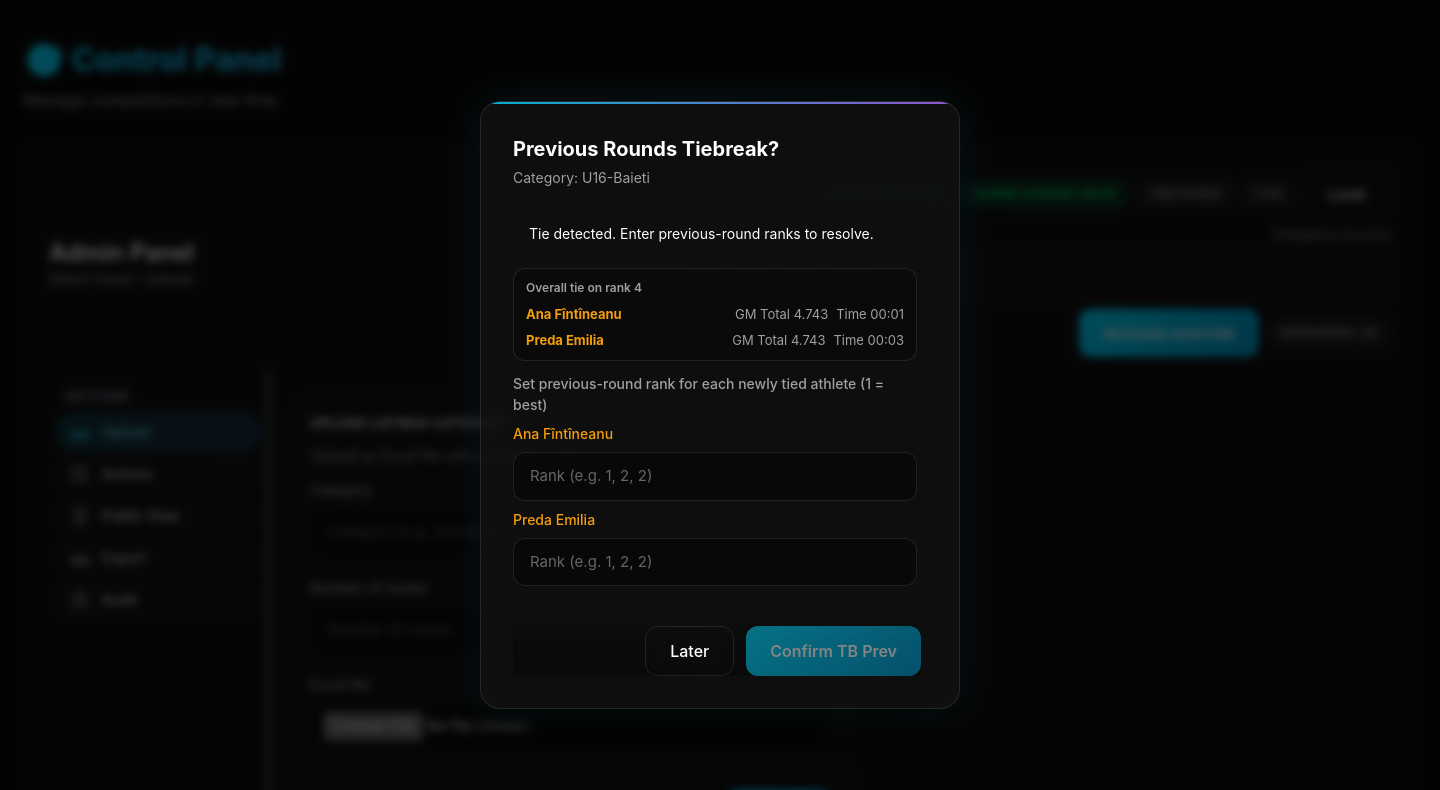
it: ControlPanel button flows › marks history-only pending TB Prev items as non-actionable in Show Tie-breaks
The width and height of the screenshot is (1440, 790).
Expected: the text "Set previous-round rank for each newly tied athlete" is shown, x1=513 y1=375 x2=884 y2=413
Click the button "Later" at x=690, y=651, box x1=645 y1=626 x2=734 y2=676
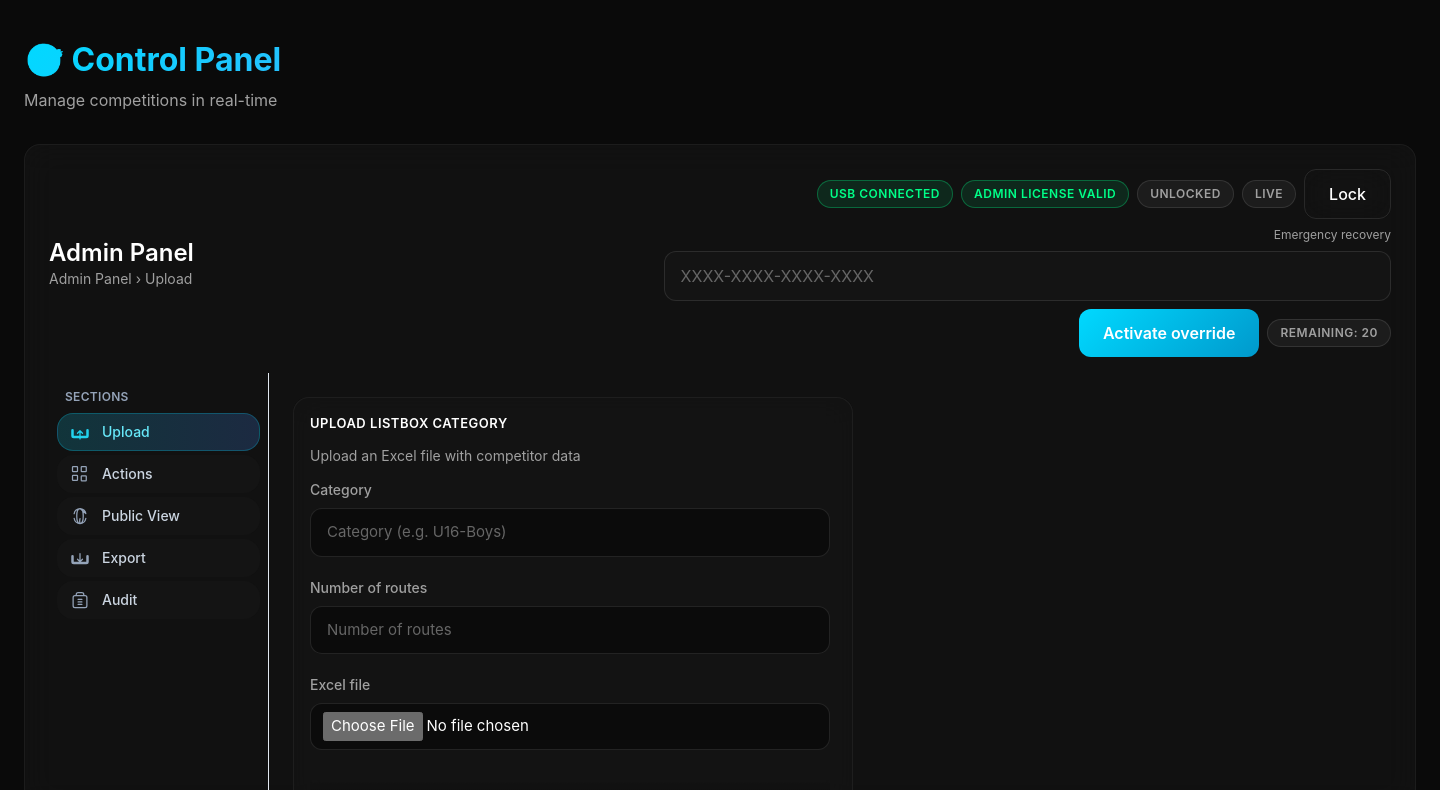
Result: the text "Set previous-round rank for each newly tied athlete" is gone
Click the button "Actions" at x=158, y=474, box x1=57 y1=455 x2=260 y2=493
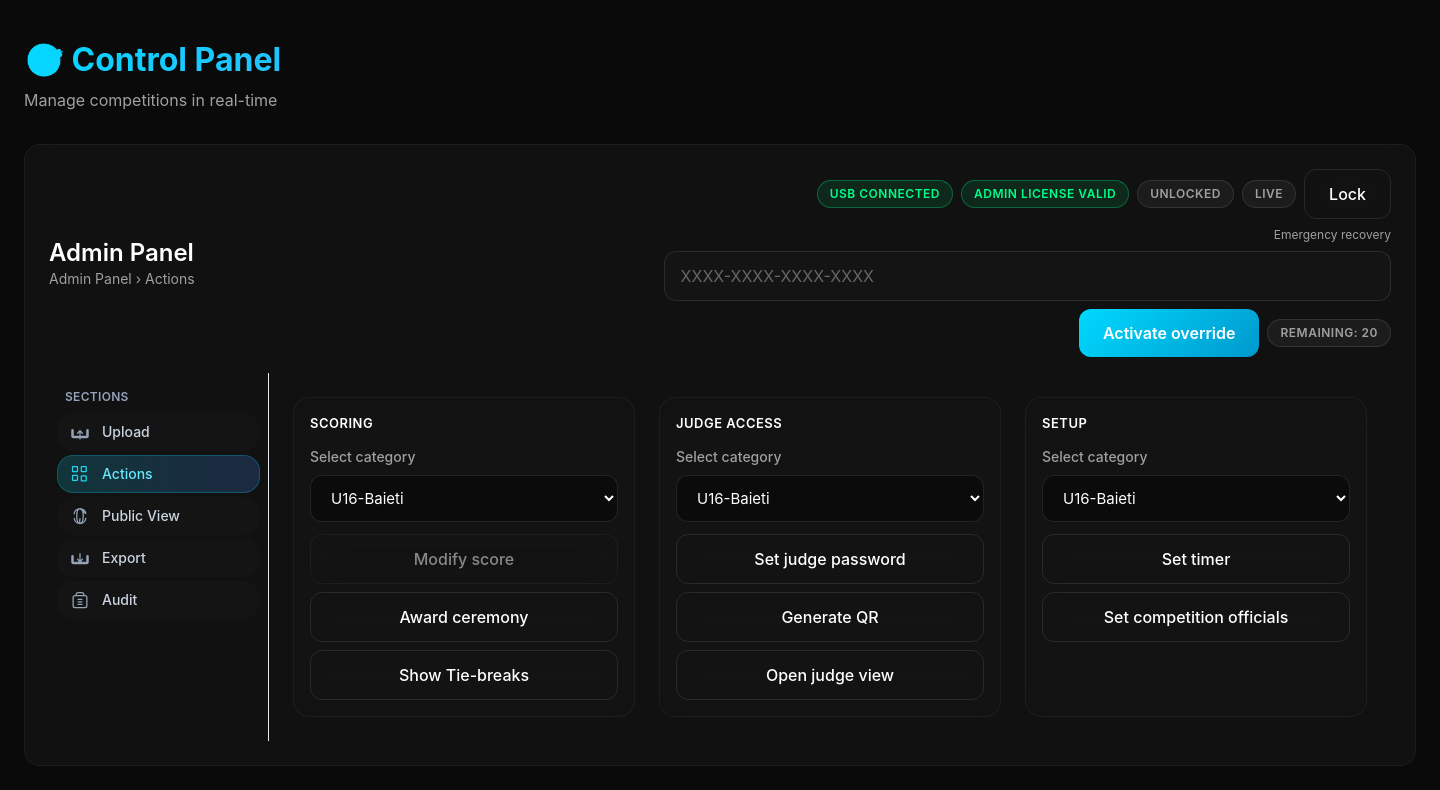
Click the button "Show Tie-breaks" at x=464, y=674, box x1=310 y1=650 x2=618 y2=700
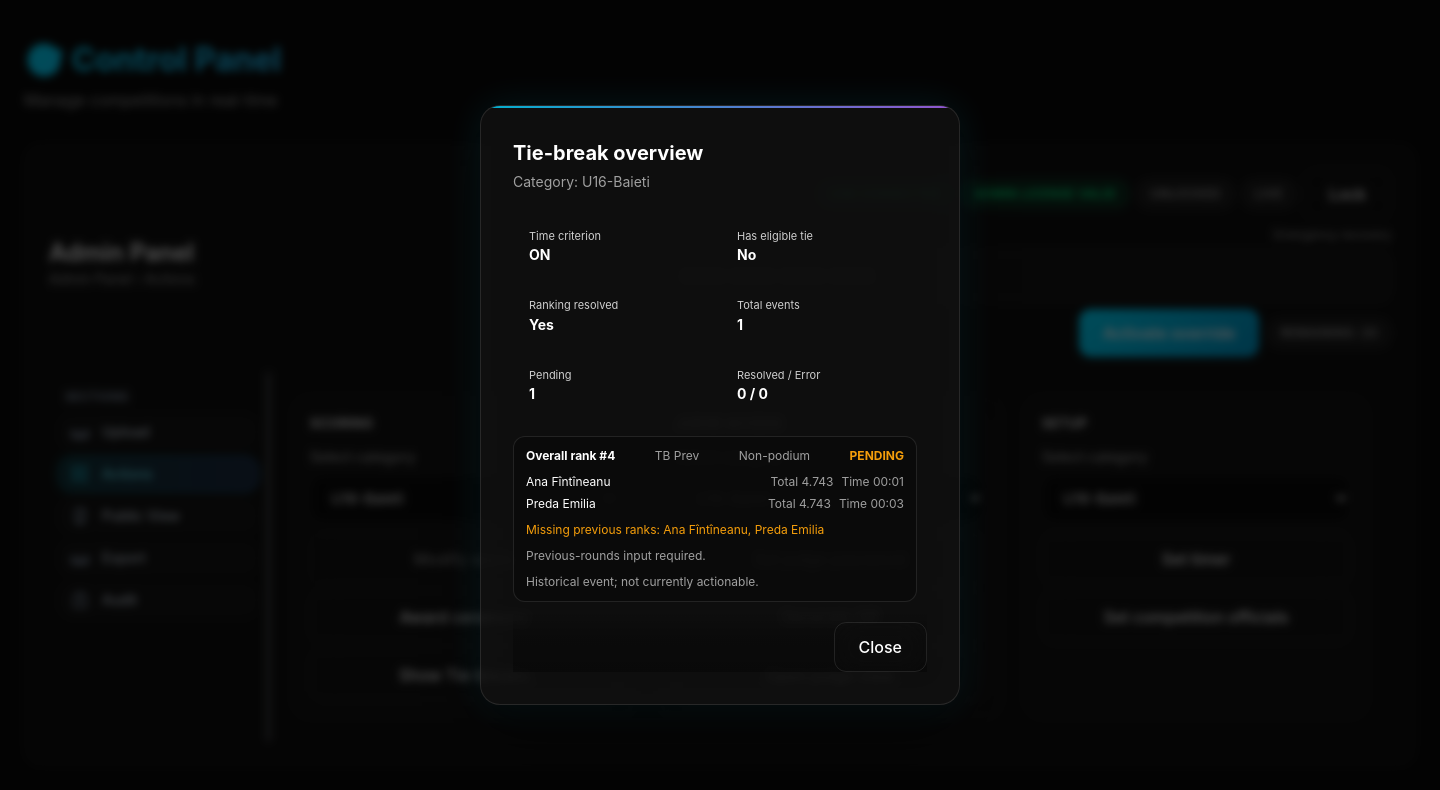
Result: the text "Tie-break overview" is shown at x1=513 y1=138 x2=703 y2=168
Result: the text "Overall rank #4" is shown at x1=526 y1=447 x2=615 y2=465
Result: the text "Historical event; not currently actionable." is shown at x1=526 y1=574 x2=759 y2=589
